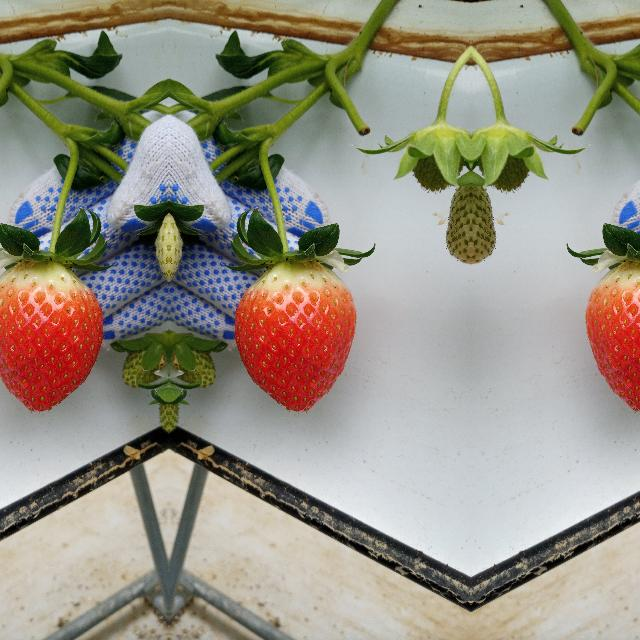Health_100: (234, 262, 356, 412), (0, 261, 102, 412), (584, 261, 640, 412)
